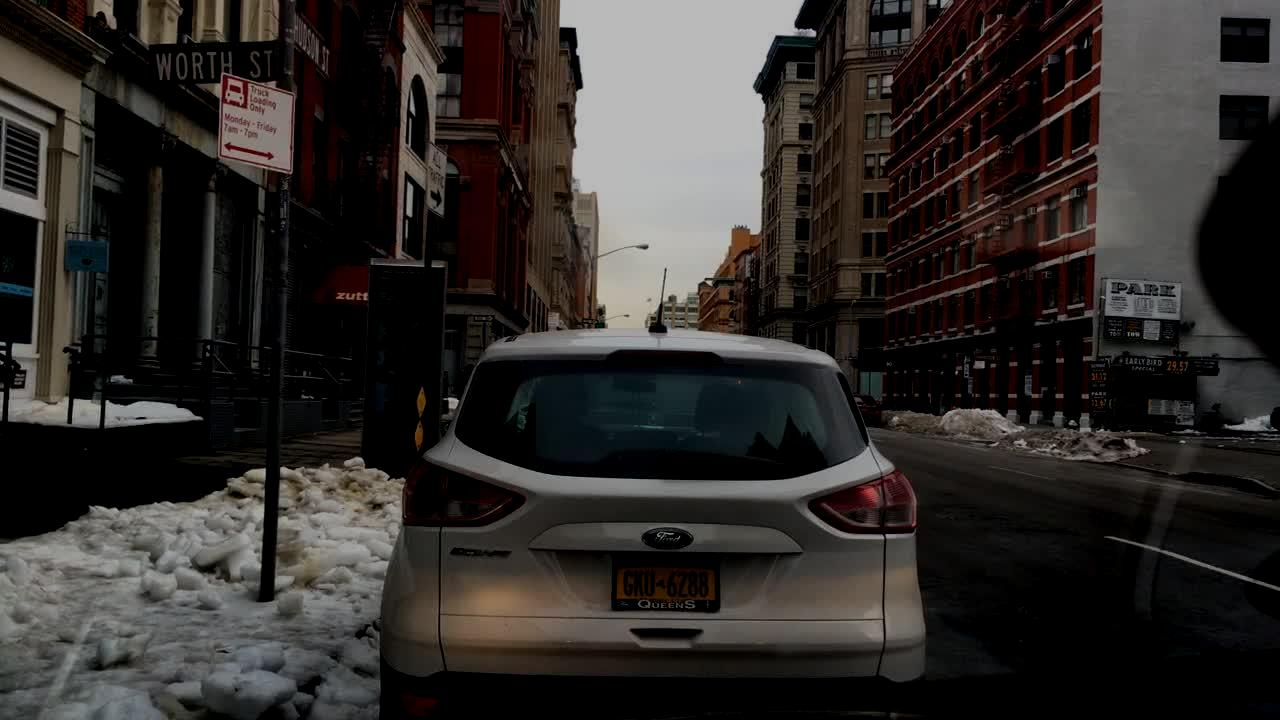ford: (639, 524, 697, 552)
